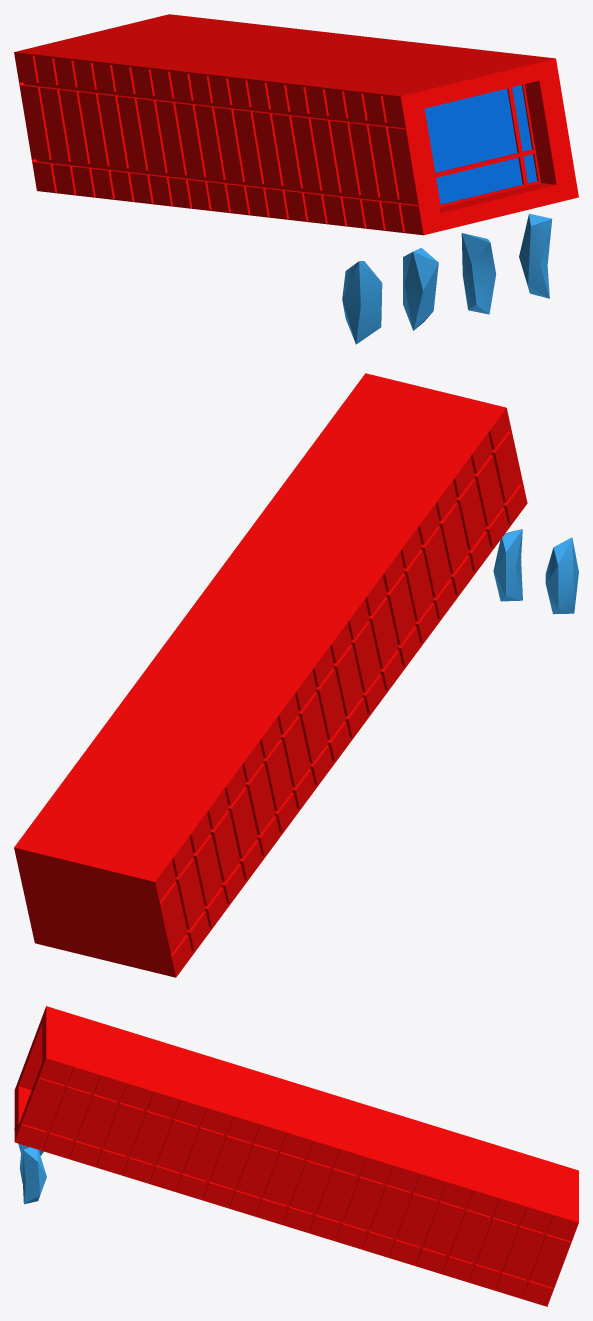
Rendered from 아고라1.fbx.
3 views of the same model, one above another, from view 1: azimuth 30°, elevation 25°; view 2: azimuth 150°, elevation 25°; view 3: azimuth 270°, elevation 25° (orthographic). The views are drawn at different scales.
Visible parts, largest first — view 1: Cube_5, Symmetry, Cube_8; view 2: Cube_5, Symmetry; view 3: Cube_5, Symmetry.
Boxes of the visible parts, x1,y1,x2,y2 form: Cube_5: (14, 14, 578, 235); Symmetry: (342, 213, 552, 344); Cube_8: (425, 85, 537, 204); Cube_5: (14, 373, 527, 977); Symmetry: (493, 529, 578, 614); Cube_5: (14, 1006, 578, 1306); Symmetry: (14, 1128, 46, 1204).
Bounding box in the file's own units: 116 × 181 × 373.
